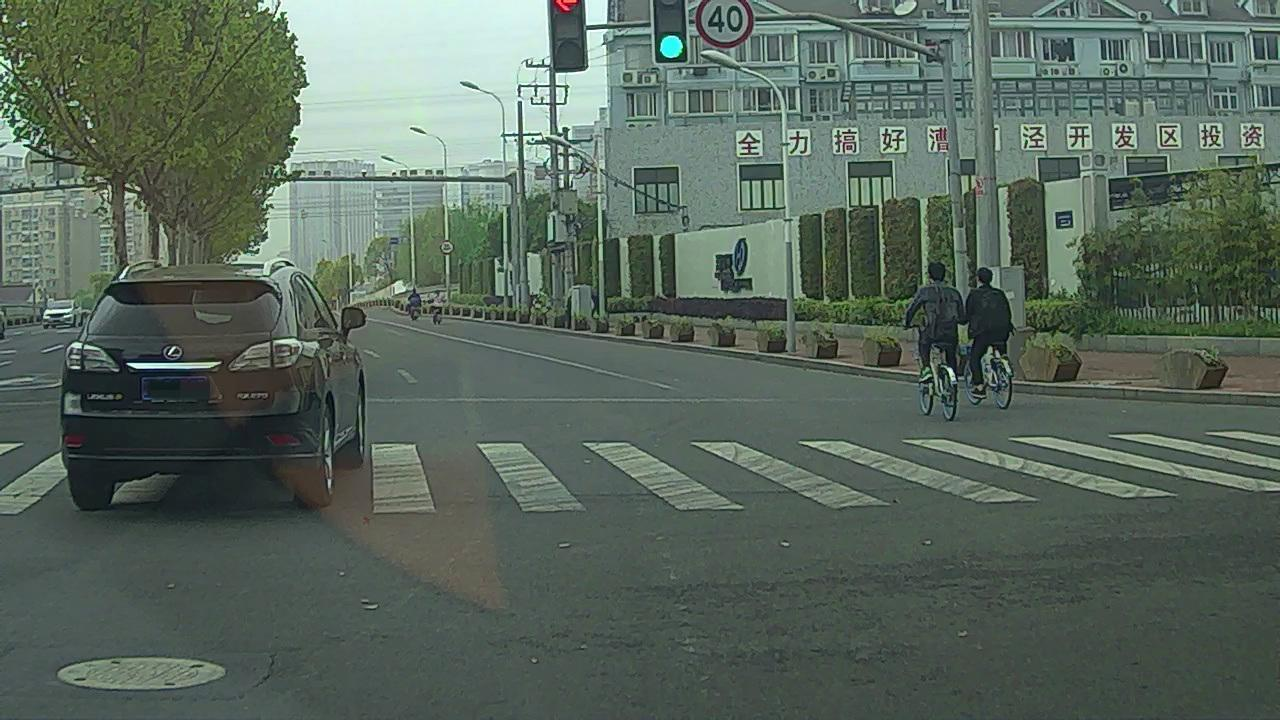traffic_light: (550, 9, 587, 69), (652, 10, 687, 63)
